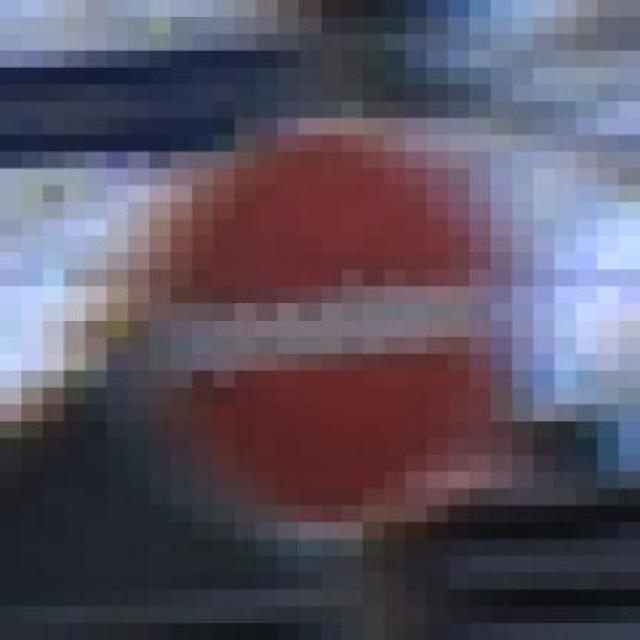B2: (176, 142, 494, 520)
